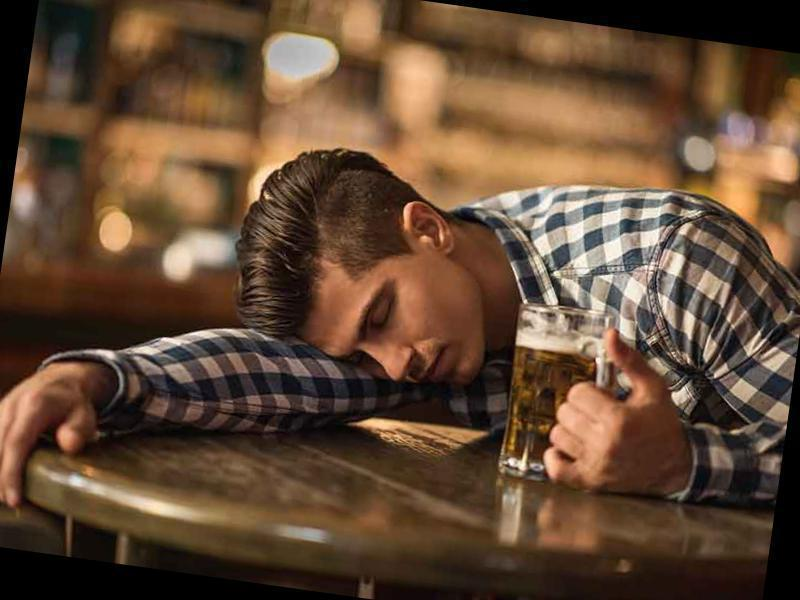Drunk: (303, 248, 487, 388)
